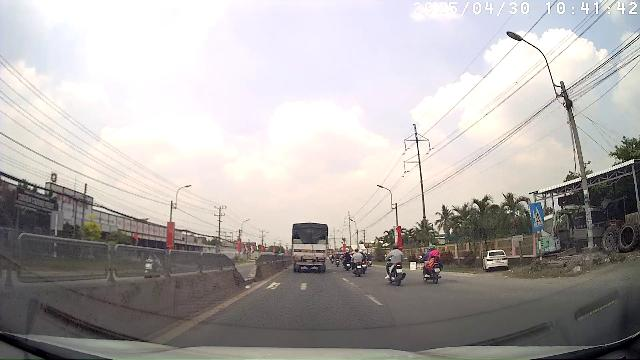423a-duong-nguoi-di-bo-sang-ngang-1: (530, 203, 544, 229)
